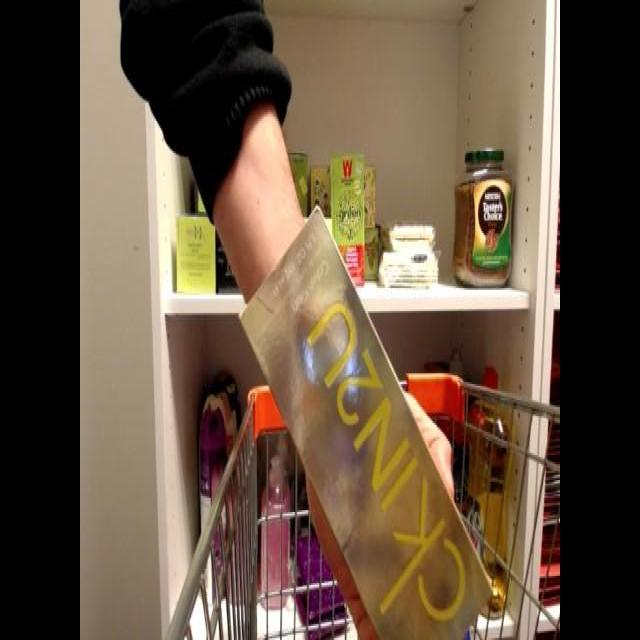Calvin Klein: (220, 214, 496, 636)
